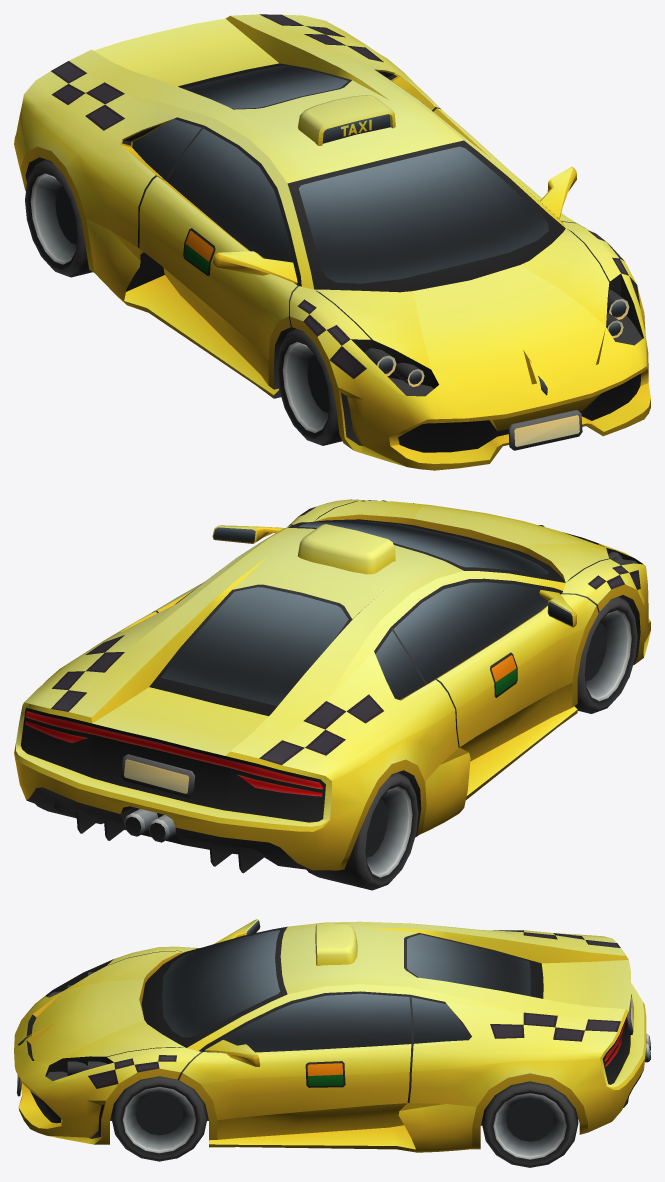
The model's file is Car_22C.fbx.
The picture shows the model from 3 angles, top to bottom: view 1: azimuth 30°, elevation 25°; view 2: azimuth 150°, elevation 25°; view 3: azimuth 270°, elevation 25°; orthographic projection. The views are drawn at different scales.
Parts seen in each view (by area): view 1: Car_22C, Wheel_22C_R.R, Wheel_22C_F.R; view 2: Car_22C, Wheel_22C_R.R, Wheel_22C_F.R; view 3: Car_22C, Wheel_22C_R.L, Wheel_22C_F.L.
Boxes of the visible parts, x1,y1,x2,y2 form: Car_22C: (14, 14, 650, 470); Wheel_22C_R.R: (25, 159, 92, 277); Wheel_22C_F.R: (277, 328, 342, 445); Car_22C: (14, 499, 650, 873); Wheel_22C_R.R: (306, 772, 418, 890); Wheel_22C_F.R: (574, 596, 637, 713); Car_22C: (14, 919, 650, 1152); Wheel_22C_R.L: (482, 1081, 578, 1167); Wheel_22C_F.L: (111, 1076, 207, 1161).
Bounding box in the file's own units: 290 × 166 × 561.
